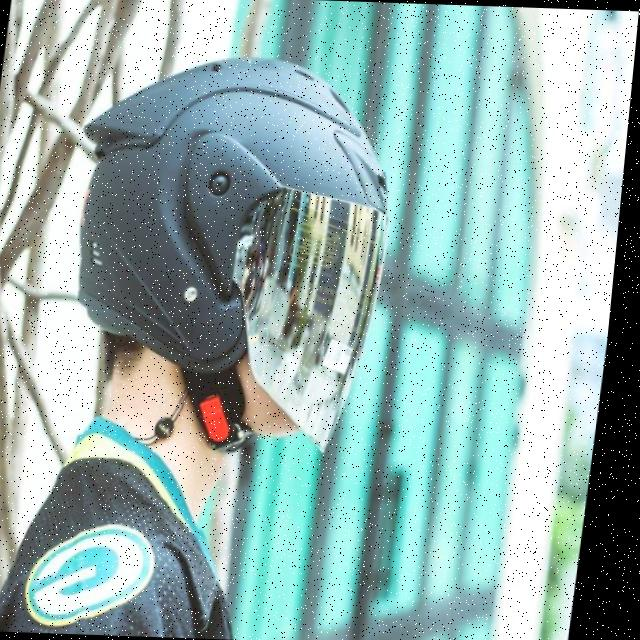helmet: (41, 42, 422, 466)
